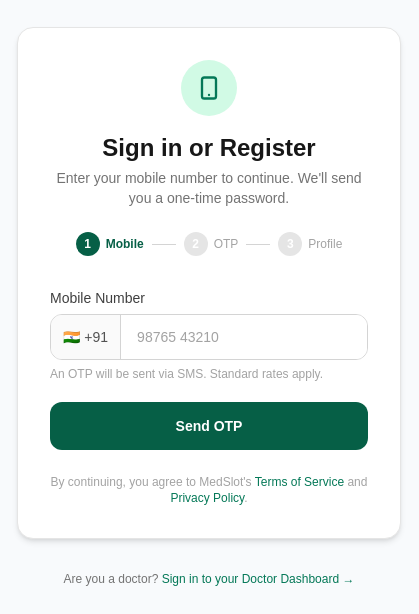
PatientOtpAuth › Step 1 — Phone entry › shows inline validation error for invalid phone on submit
This screenshot has width=419, height=614.
Type "12345" into the field labelled "Mobile Number".
click(244, 337); type("12345")  # box [121,315,367,359]
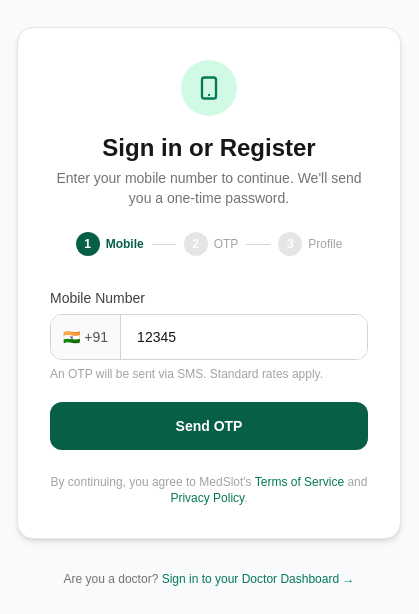
Click the button "Send OTP".
click(209, 426)  # box [50,402,368,450]
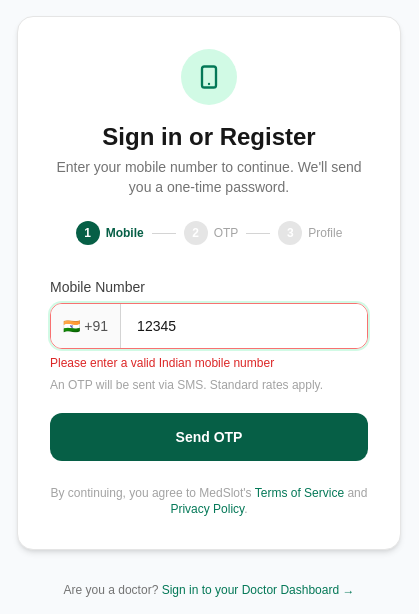
Now the text "Please enter a valid Indian mobile number" is shown, box [50,356,274,370]
